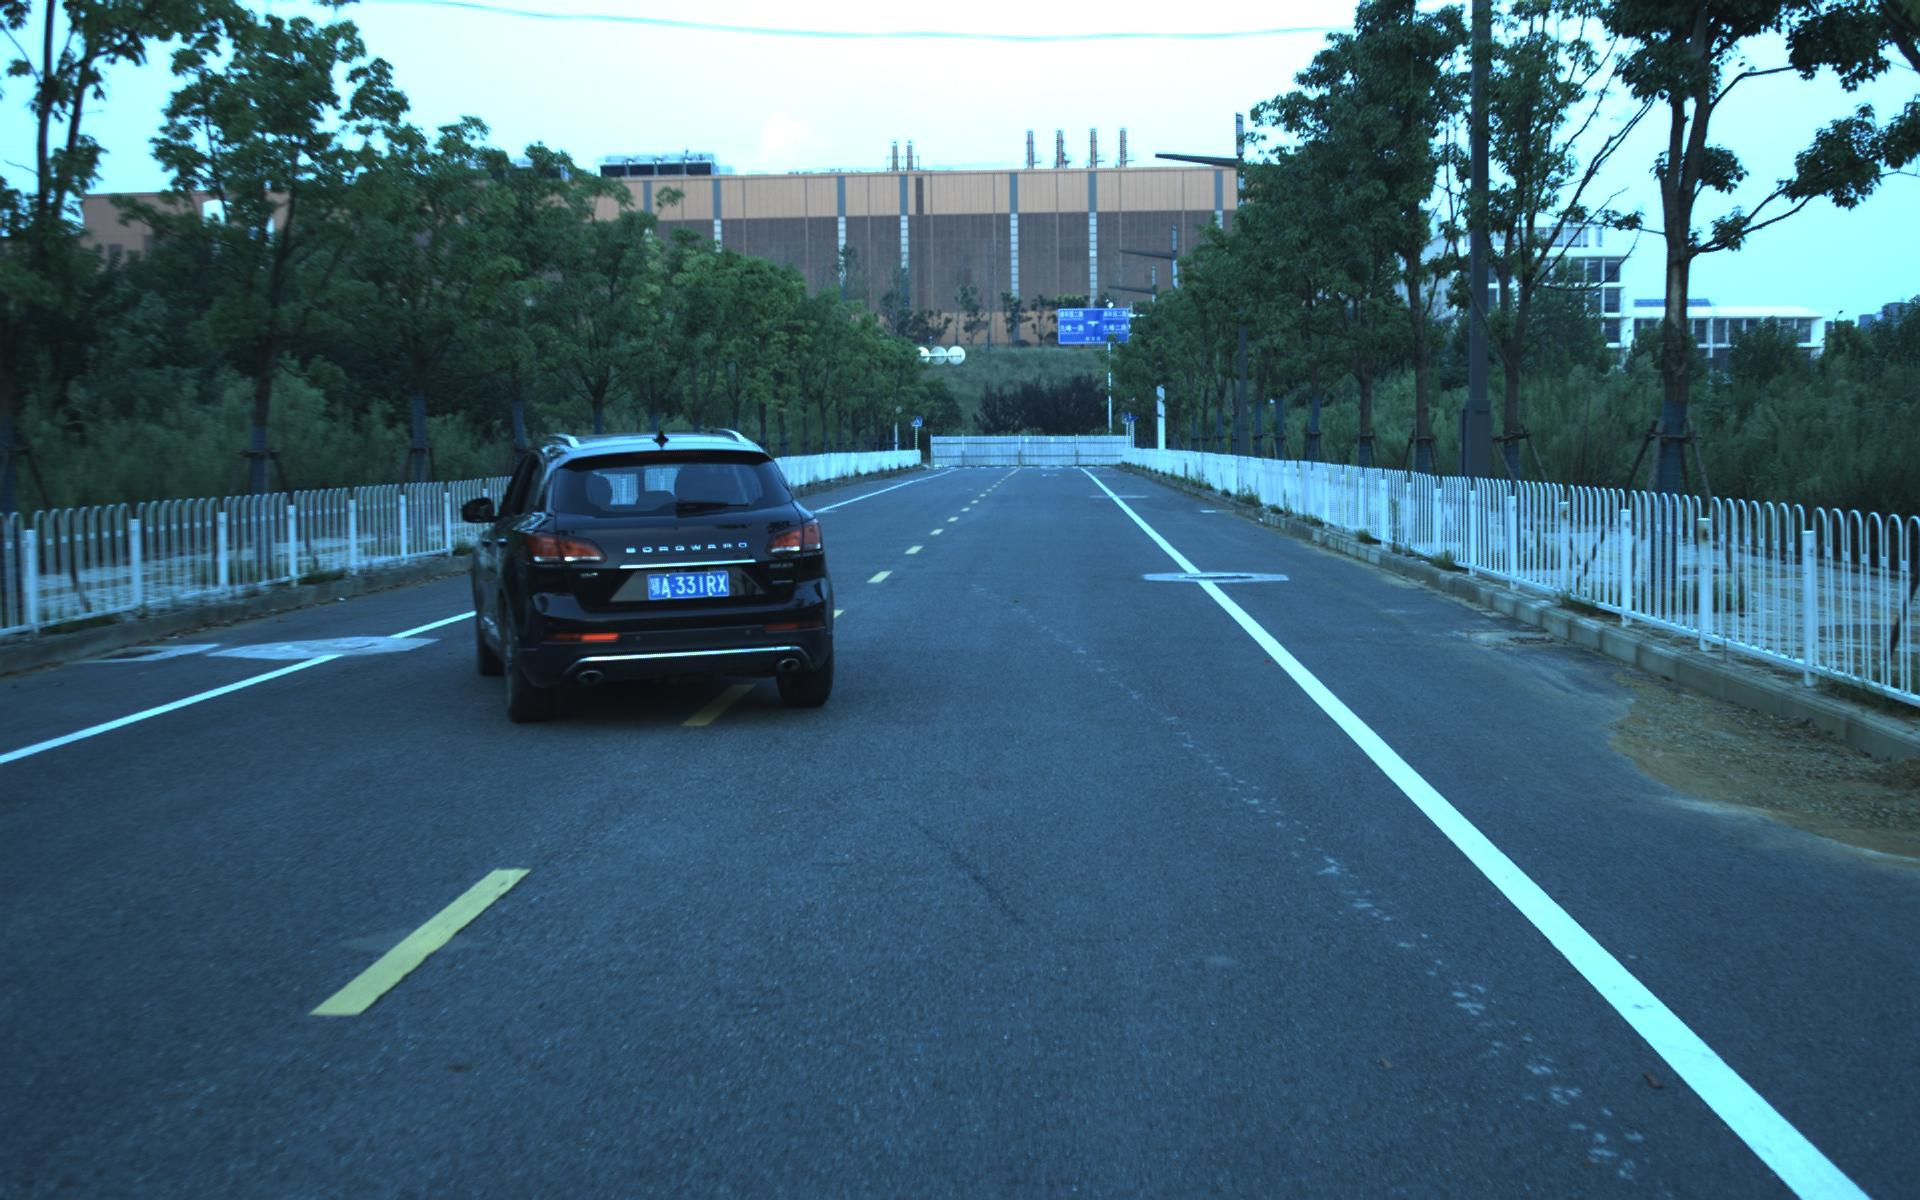Car: (464, 423, 847, 730)
